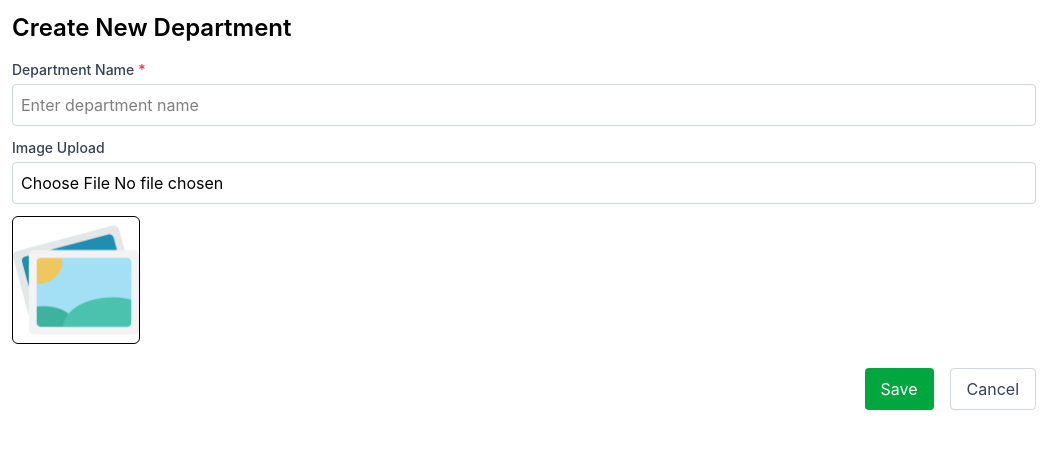
DepartmentForm › shows client validation error when required fields are missing
# Submit without filling name
Click the button "Save" at (899, 389), box [864,368,934,410]
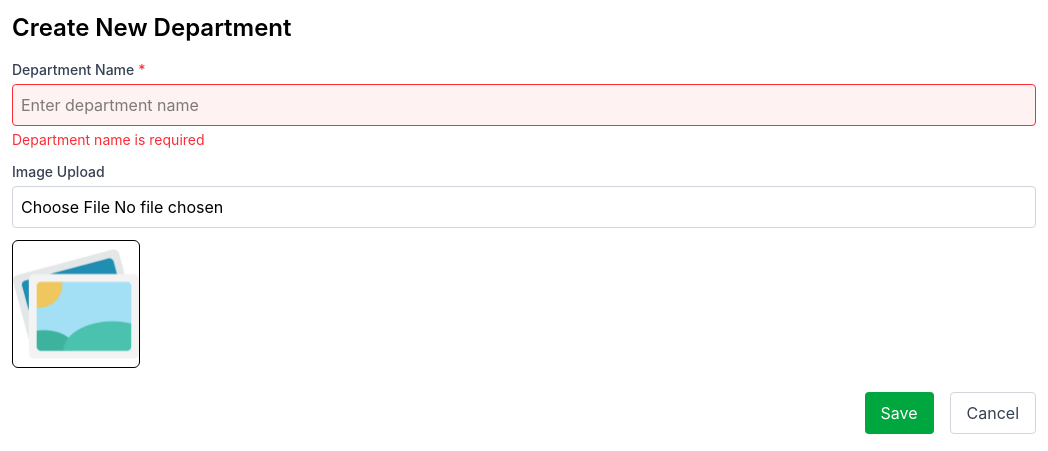
Check: the text "Department name is required" is shown, box [12,131,205,148]
